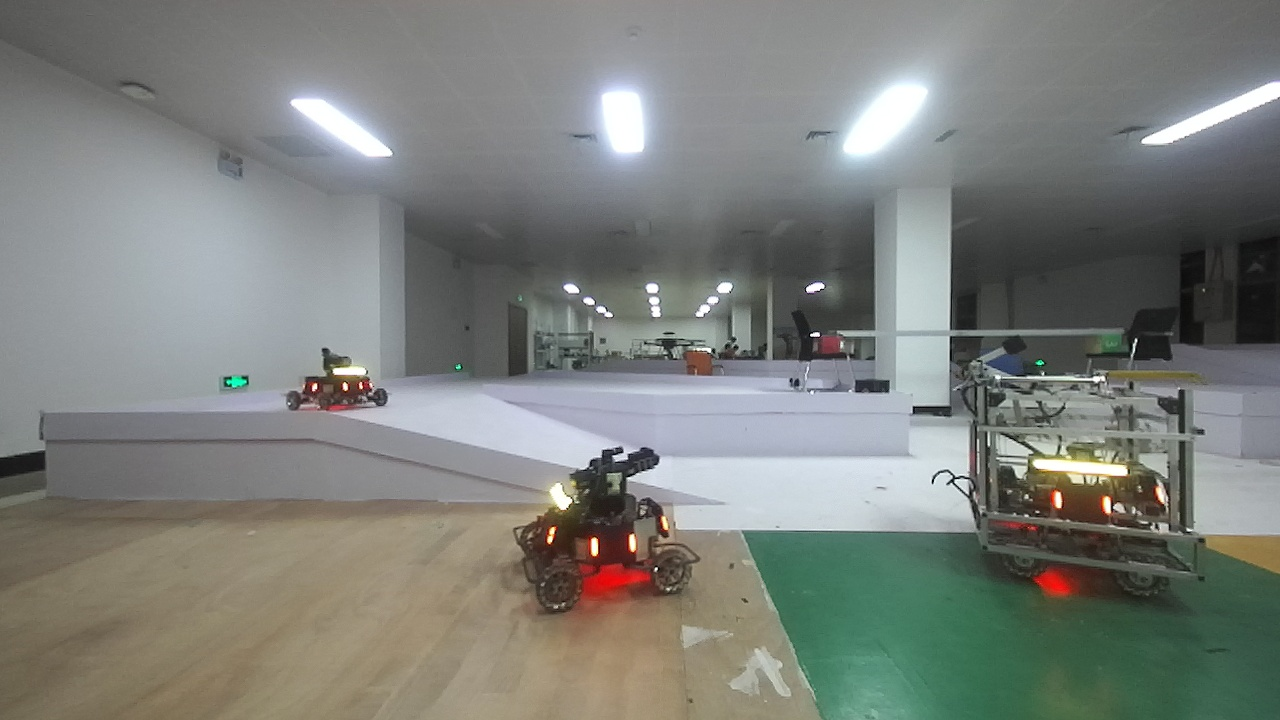car: (936, 330, 1220, 605), (519, 448, 710, 640), (293, 334, 408, 430)
